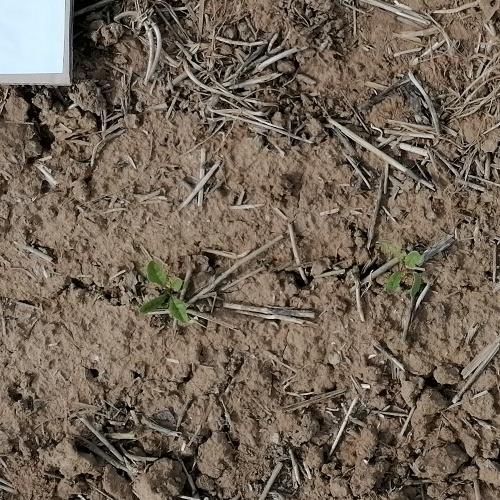beet: (140, 260, 190, 325), (385, 250, 426, 296)
